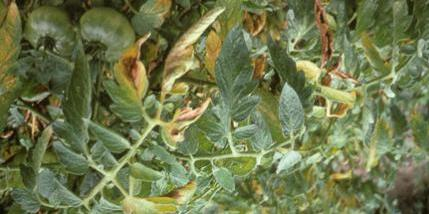Tomato Early blight leaf: (157, 8, 227, 100), (112, 35, 151, 125), (124, 179, 203, 214), (160, 99, 218, 146), (19, 124, 54, 196), (0, 0, 24, 95)
Tomato leaf: (56, 45, 94, 148), (214, 28, 253, 123), (279, 82, 302, 138)
